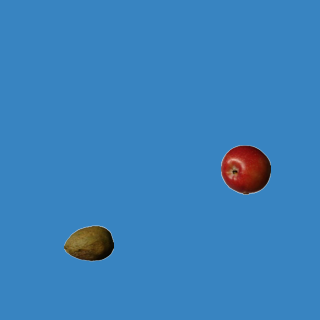Apple Braeburn: (220, 144, 270, 194)
Papaya: (63, 218, 113, 268)
